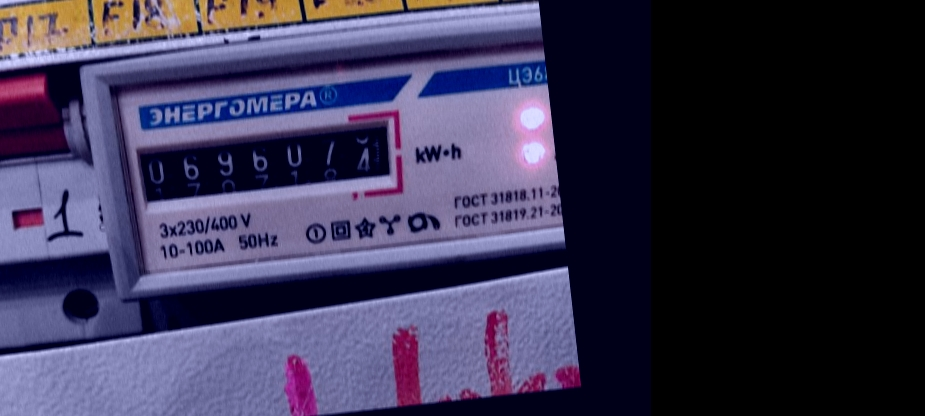0: (280, 137, 302, 169), (142, 156, 163, 186)
4: (350, 145, 369, 175)
6: (246, 143, 268, 174), (177, 151, 199, 181)
7: (316, 136, 336, 167)
9: (212, 148, 232, 178)
screen: (118, 102, 411, 222)
